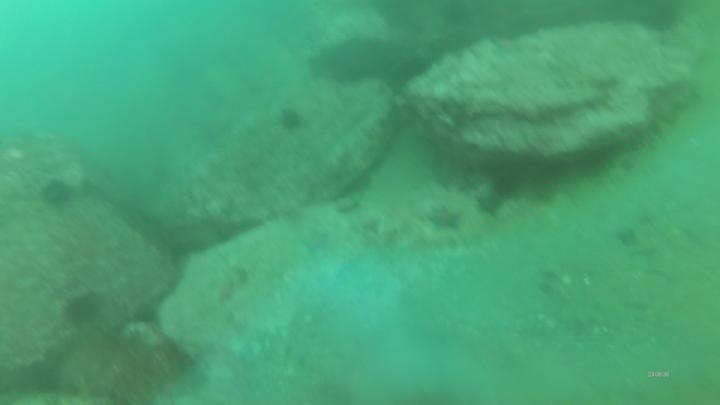echinus: (61, 290, 105, 328), (37, 176, 77, 212), (488, 167, 526, 201), (276, 105, 306, 135)
holothurian: (637, 74, 702, 138)
starfish: (420, 201, 467, 237), (295, 222, 336, 258), (472, 188, 508, 220)
